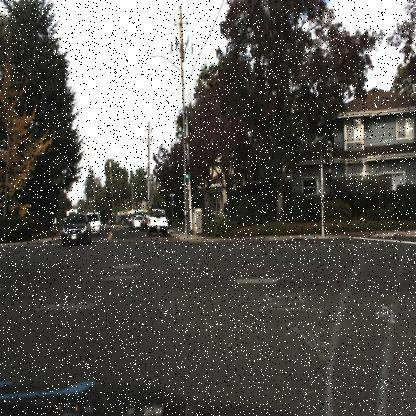car: (57, 208, 92, 251), (144, 208, 171, 243), (89, 208, 104, 237)
trafficLight-Green: (179, 163, 191, 194)
truck: (61, 207, 75, 230)
